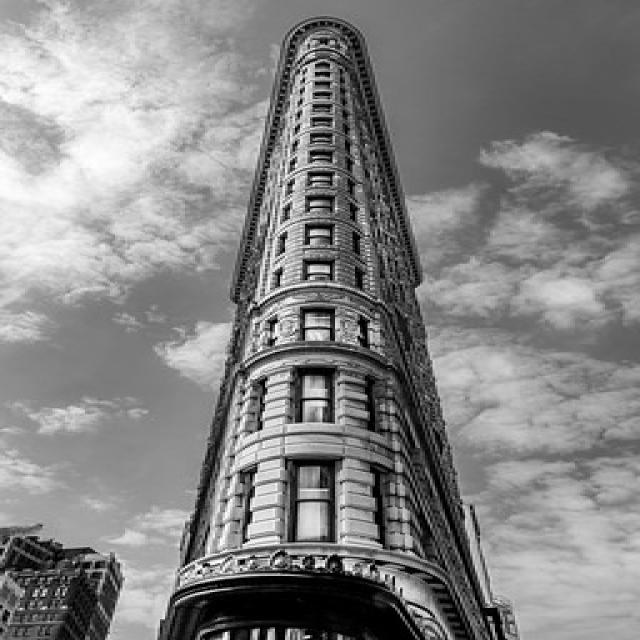building: (150, 8, 525, 638)
